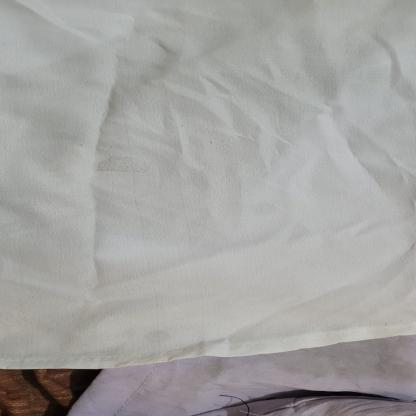spot: (103, 152, 150, 176), (249, 200, 286, 215)
